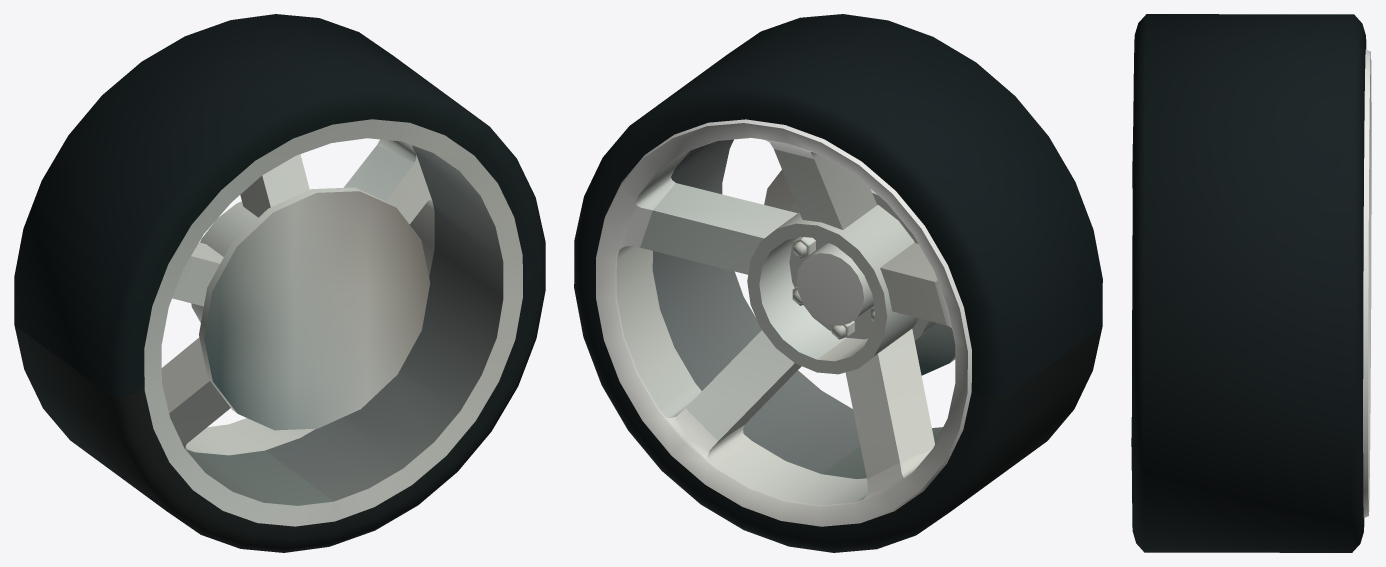
The model's file is LlantaIzqDel.obj.
3 views of the same model, side by side, from view 1: azimuth 30°, elevation 25°; view 2: azimuth 150°, elevation 25°; view 3: azimuth 270°, elevation 25° (orthographic). The views are drawn at different scales.
Parts seen in each view (by area): view 1: DrawCall_0183, DrawCall_0320; view 2: DrawCall_0183, DrawCall_0320, DrawCall_0315; view 3: DrawCall_0183, DrawCall_0315.
Boxes of the visible parts, x1,y1,x2,y2 form: DrawCall_0183: [14, 14, 545, 552]; DrawCall_0320: [144, 119, 522, 526]; DrawCall_0183: [574, 14, 1102, 552]; DrawCall_0320: [616, 139, 946, 505]; DrawCall_0315: [596, 119, 971, 526]; DrawCall_0183: [1131, 14, 1366, 552]; DrawCall_0315: [1363, 49, 1371, 517].
Size of the model in its own units: 10.56 by 10.62 by 4.73.
